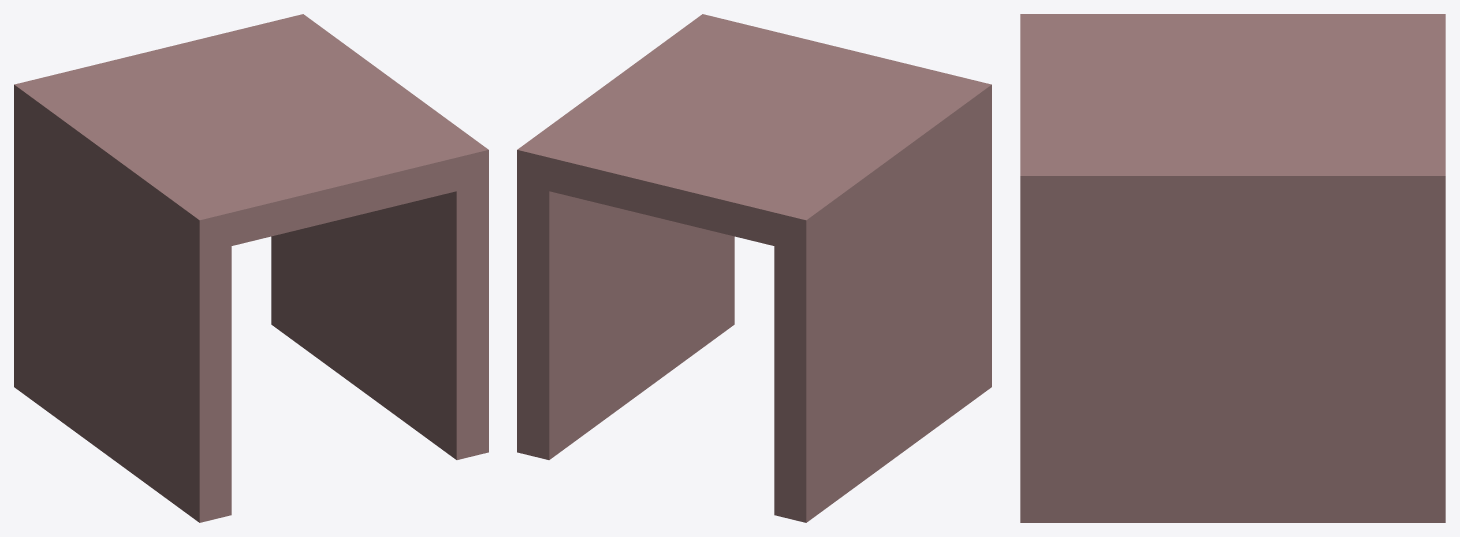
File: Tunnel01.FBX
3 views of the same model, side by side, from view 1: azimuth 30°, elevation 25°; view 2: azimuth 150°, elevation 25°; view 3: azimuth 270°, elevation 25° (orthographic). The views are drawn at different scales.
Parts seen in each view (by area): view 1: Tunnel01; view 2: Tunnel01; view 3: Tunnel01.
Boxes of the visible parts, x1,y1,x2,y2 form: Tunnel01: [14, 14, 488, 522]; Tunnel01: [517, 14, 991, 522]; Tunnel01: [1020, 14, 1445, 522].
Bounding box in the file's own units: 450 × 450 × 500.
